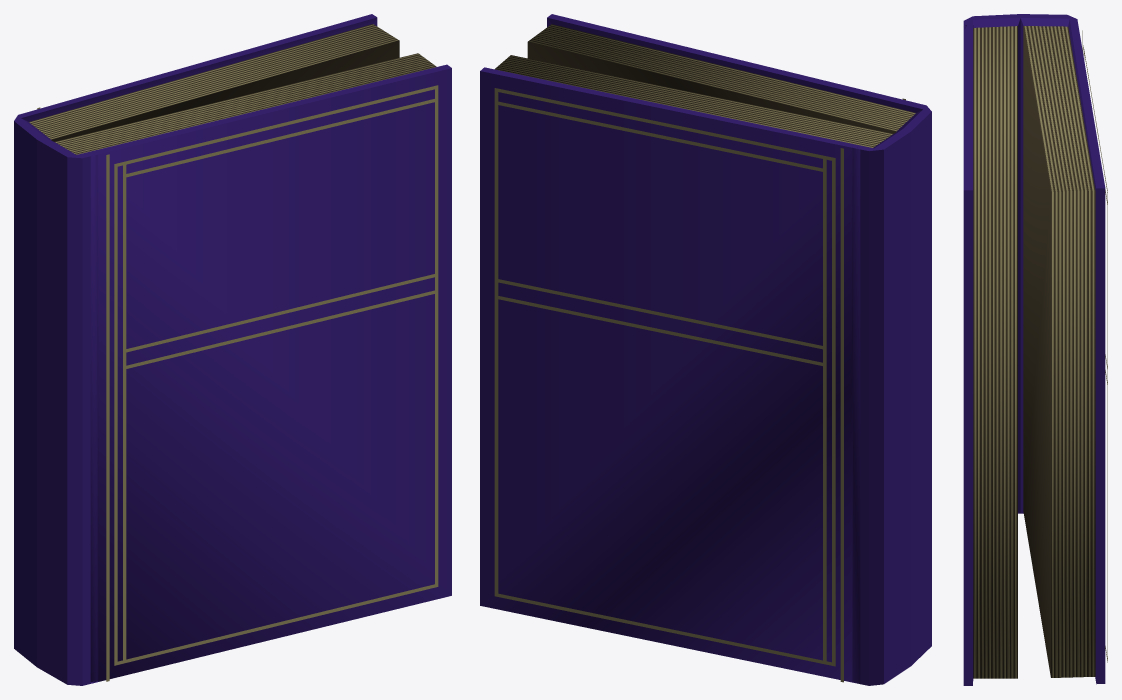
The model's file is SAVE.ICO.obj.
The picture shows the model from 3 angles, left to right: view 1: azimuth 30°, elevation 25°; view 2: azimuth 150°, elevation 25°; view 3: azimuth 270°, elevation 25°; orthographic projection. The views are drawn at different scales.
Bounding box in the file's own units: 2.56 × 3.36 × 0.9067.
1 material, 1 textured.
